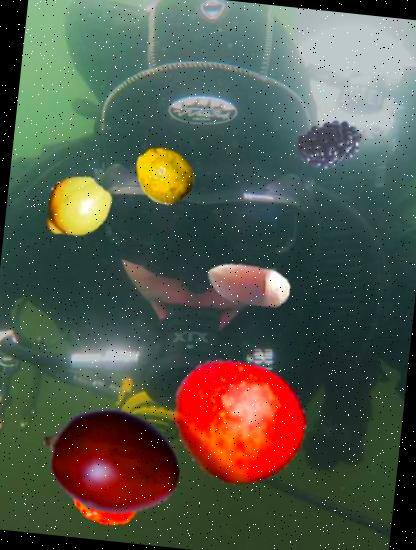Guava: (130, 142, 197, 209)
Hazelnut: (200, 238, 296, 333)
Mulberry: (294, 108, 367, 181)
Nectarine: (166, 348, 312, 494)
Quince: (36, 168, 115, 248)
Tamarillo: (34, 384, 188, 538)
Tomato: (62, 444, 150, 532)
